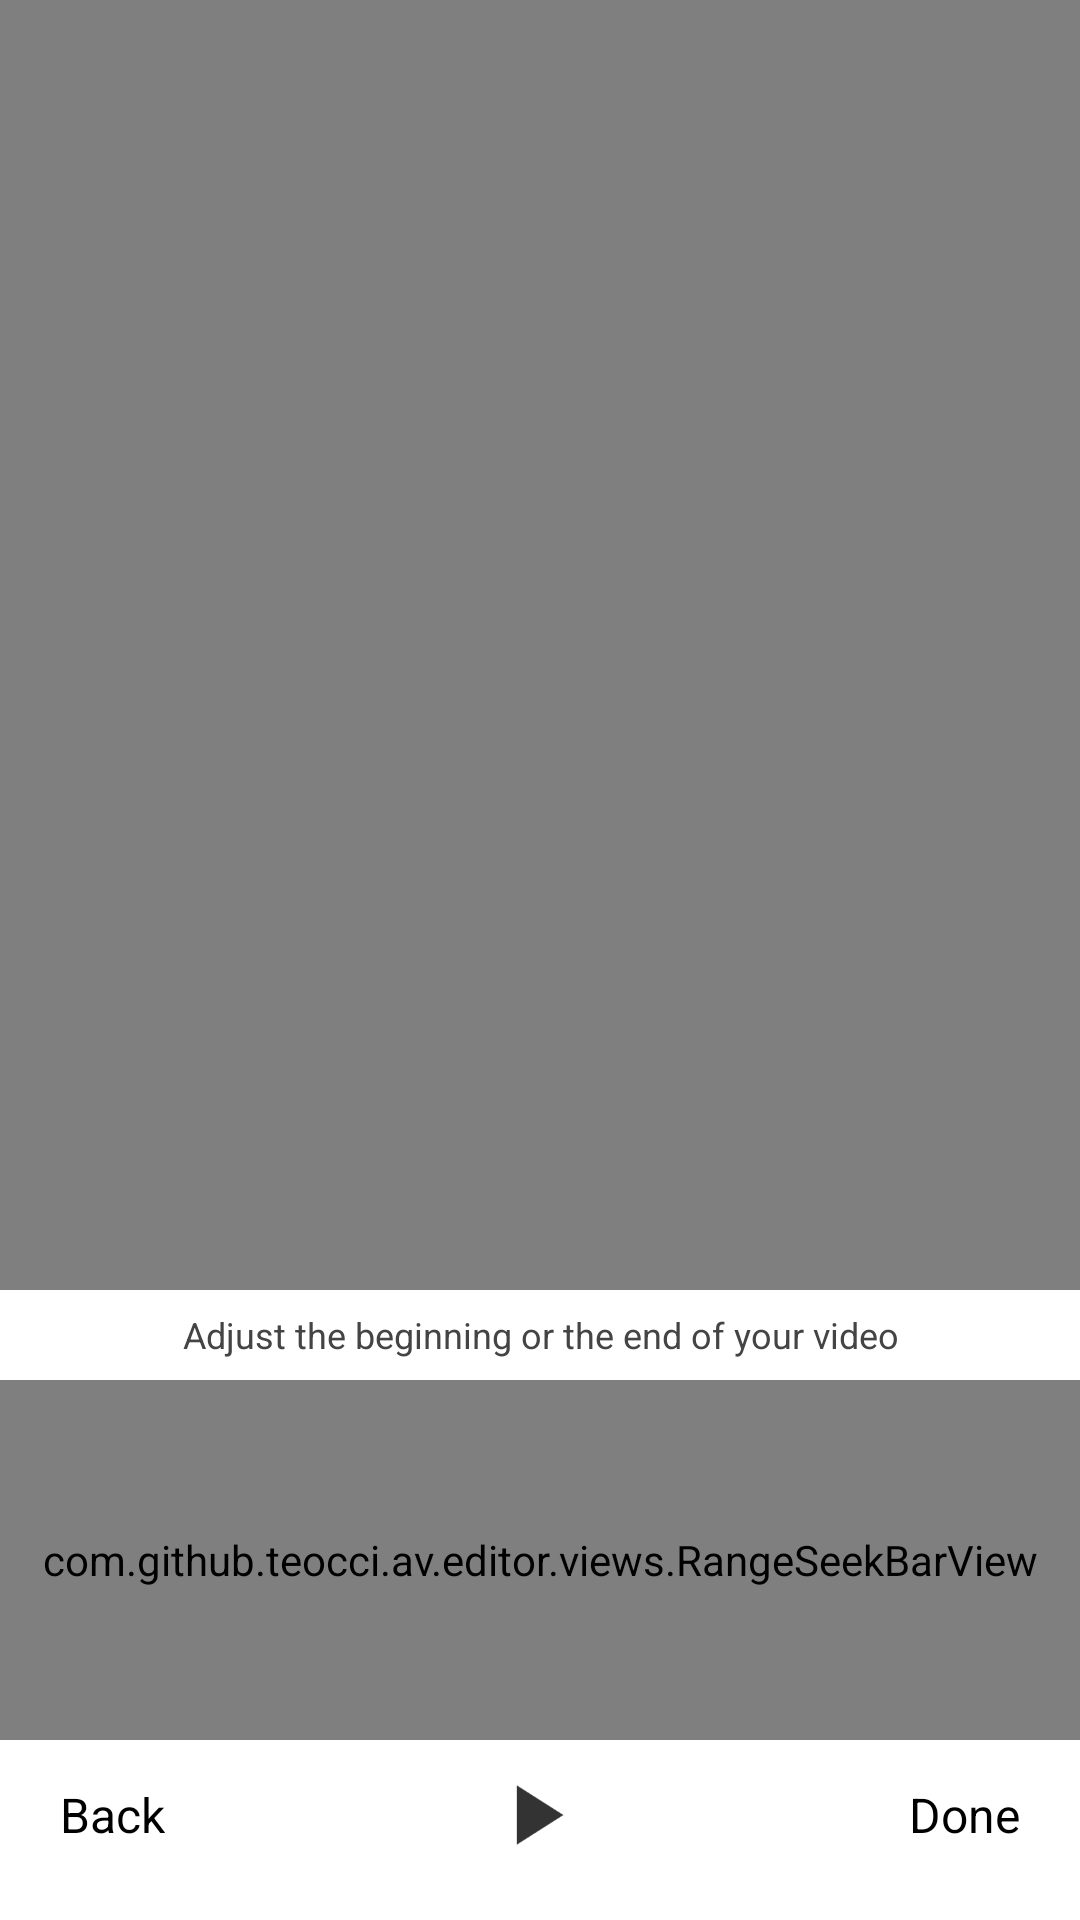

Where to tap for icons on this 1080w x 1920h app screen, as point (x, y):
video play: point (539, 1815)
